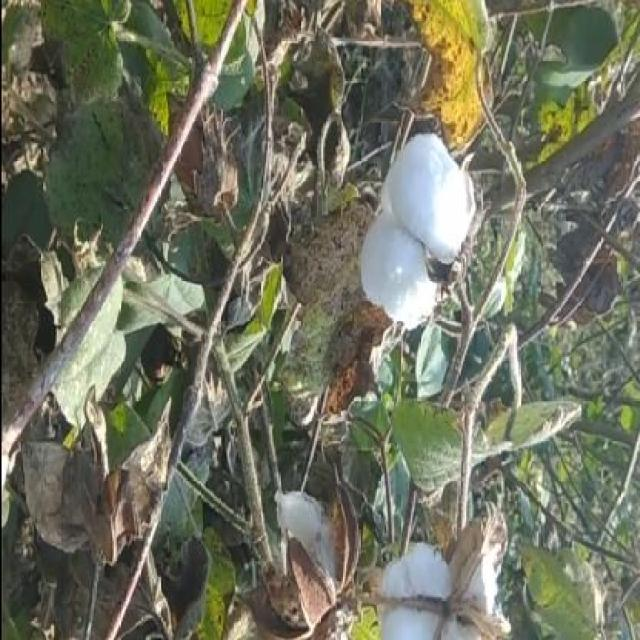cotton_ready: (357, 140, 486, 334)
